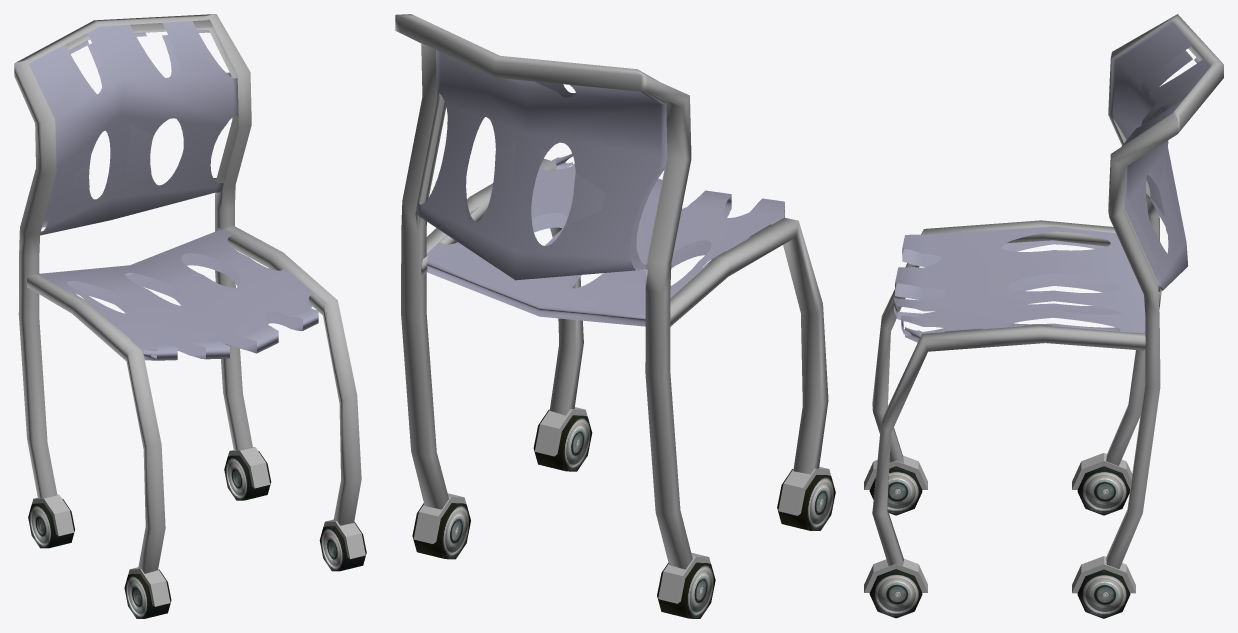
The model's file is Chair.fbx.
The picture shows the model from 3 angles, left to right: view 1: azimuth 30°, elevation 25°; view 2: azimuth 150°, elevation 25°; view 3: azimuth 270°, elevation 25°; orthographic projection. The views are drawn at different scales.
Parts seen in each view (by area): view 1: back, seat, front_legs, wheel (×4), wheel_cover_thing2, wheel_cover_thing3, wheel_cover_thing, wheel_cover_thing1; view 2: back, seat, front_legs, wheel (×4), wheel_cover_thing, wheel_cover_thing1, wheel_cover_thing2, wheel_cover_thing3; view 3: back, seat, front_legs, wheel (×4), wheel_cover_thing3, wheel_cover_thing, wheel_cover_thing2, wheel_cover_thing1.
Boxes of the visible parts, x1=… form: back: x1=14, y1=14, x2=252, y2=498; seat: x1=38, y1=229, x2=326, y2=360; front_legs: x1=27, y1=225, x2=361, y2=573; wheel (×4): x1=28, y1=451, x2=366, y2=618; wheel_cover_thing2: x1=32, y1=494, x2=74, y2=536; wheel_cover_thing3: x1=228, y1=447, x2=270, y2=488; wheel_cover_thing: x1=323, y1=519, x2=365, y2=559; wheel_cover_thing1: x1=128, y1=567, x2=170, y2=606; back: x1=395, y1=14, x2=692, y2=569; seat: x1=426, y1=153, x2=784, y2=326; front_legs: x1=420, y1=159, x2=828, y2=474; wheel (×4): x1=412, y1=409, x2=835, y2=618; wheel_cover_thing: x1=534, y1=407, x2=587, y2=456; wheel_cover_thing1: x1=778, y1=466, x2=830, y2=515; wheel_cover_thing2: x1=658, y1=552, x2=710, y2=603; wheel_cover_thing3: x1=413, y1=493, x2=466, y2=543; back: x1=1106, y1=14, x2=1223, y2=568; seat: x1=894, y1=226, x2=1145, y2=342; front_legs: x1=872, y1=220, x2=1145, y2=565; wheel (×4): x1=869, y1=466, x2=1130, y2=618; wheel_cover_thing3: x1=1072, y1=556, x2=1135, y2=593; wheel_cover_thing: x1=864, y1=558, x2=927, y2=592; wheel_cover_thing2: x1=1072, y1=453, x2=1132, y2=489; wheel_cover_thing1: x1=864, y1=455, x2=927, y2=489.
Size of the model in its own units: 8.58 by 17.33 by 11.33.
3 materials, 1 textured.
